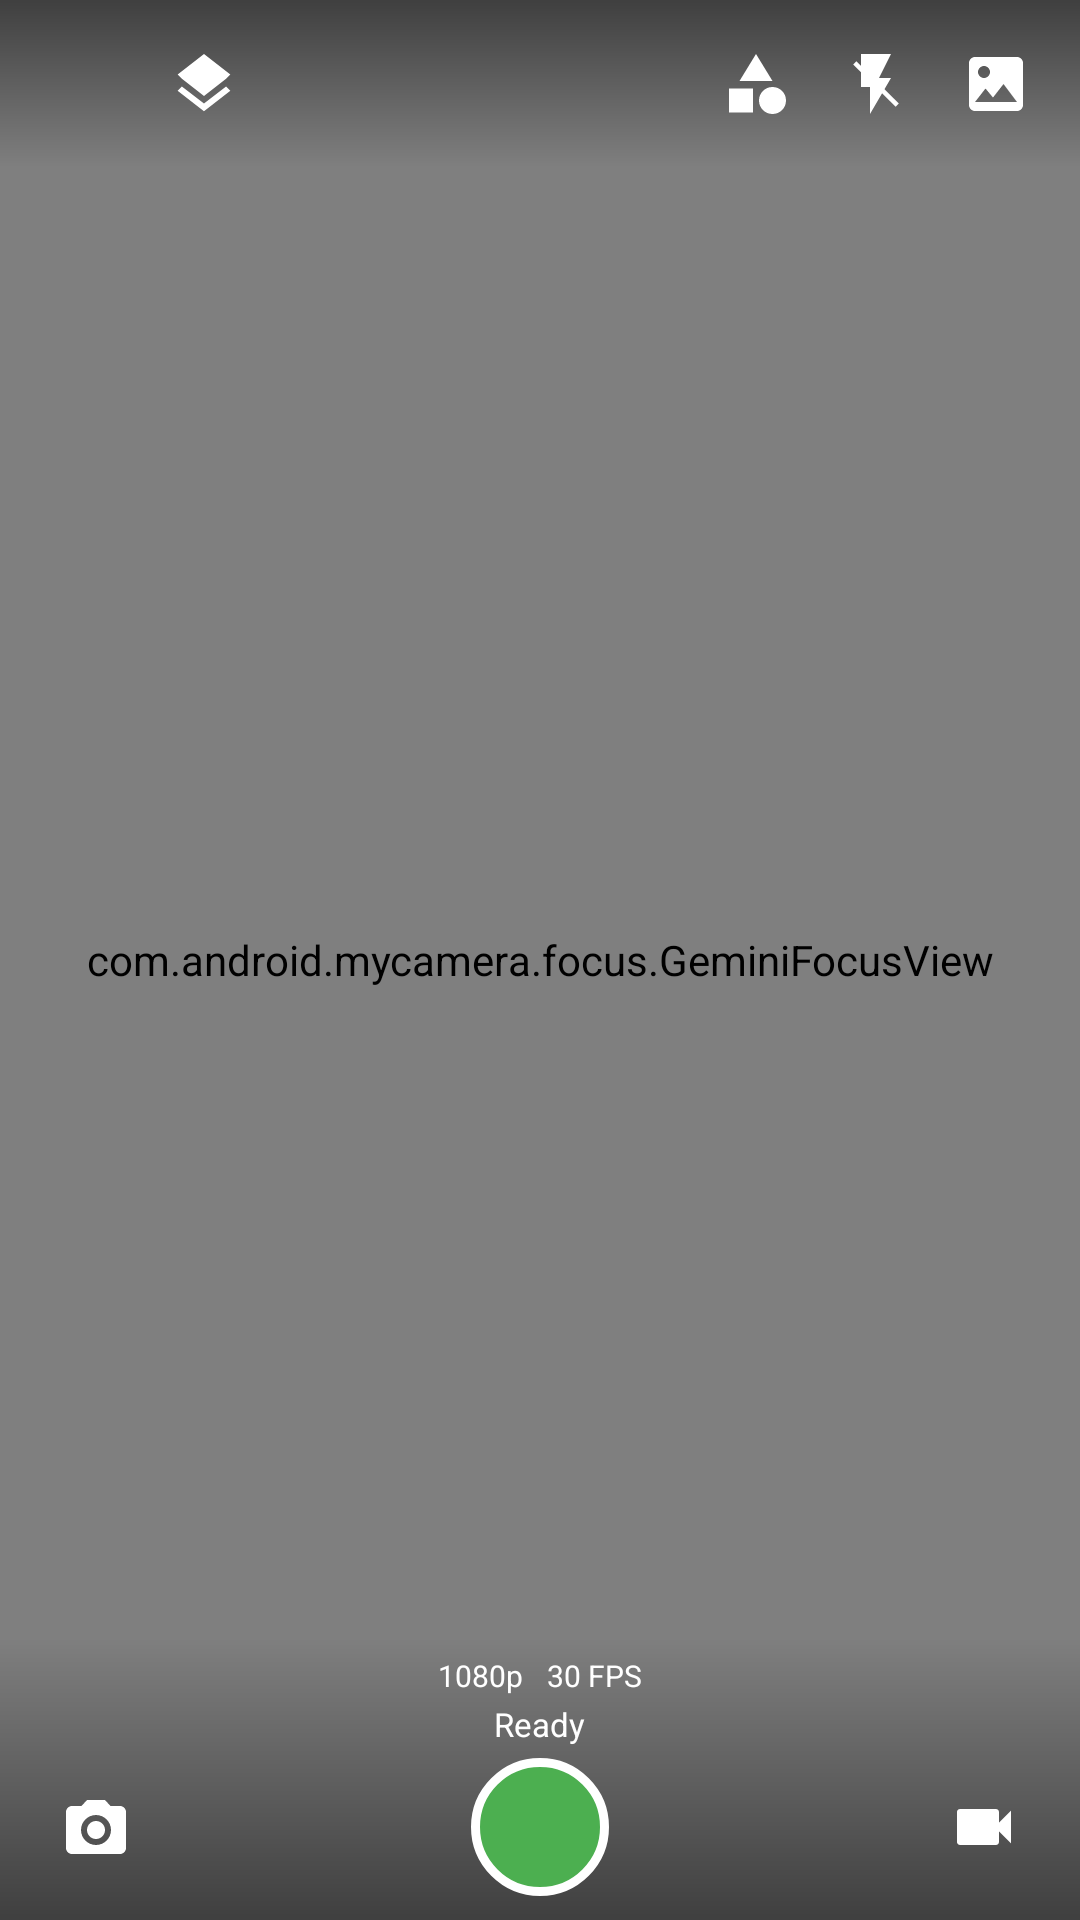

Named icons in this screenshot (1080*1920) and their centers, [x,y]:
Photo Mode: [96,1827]
